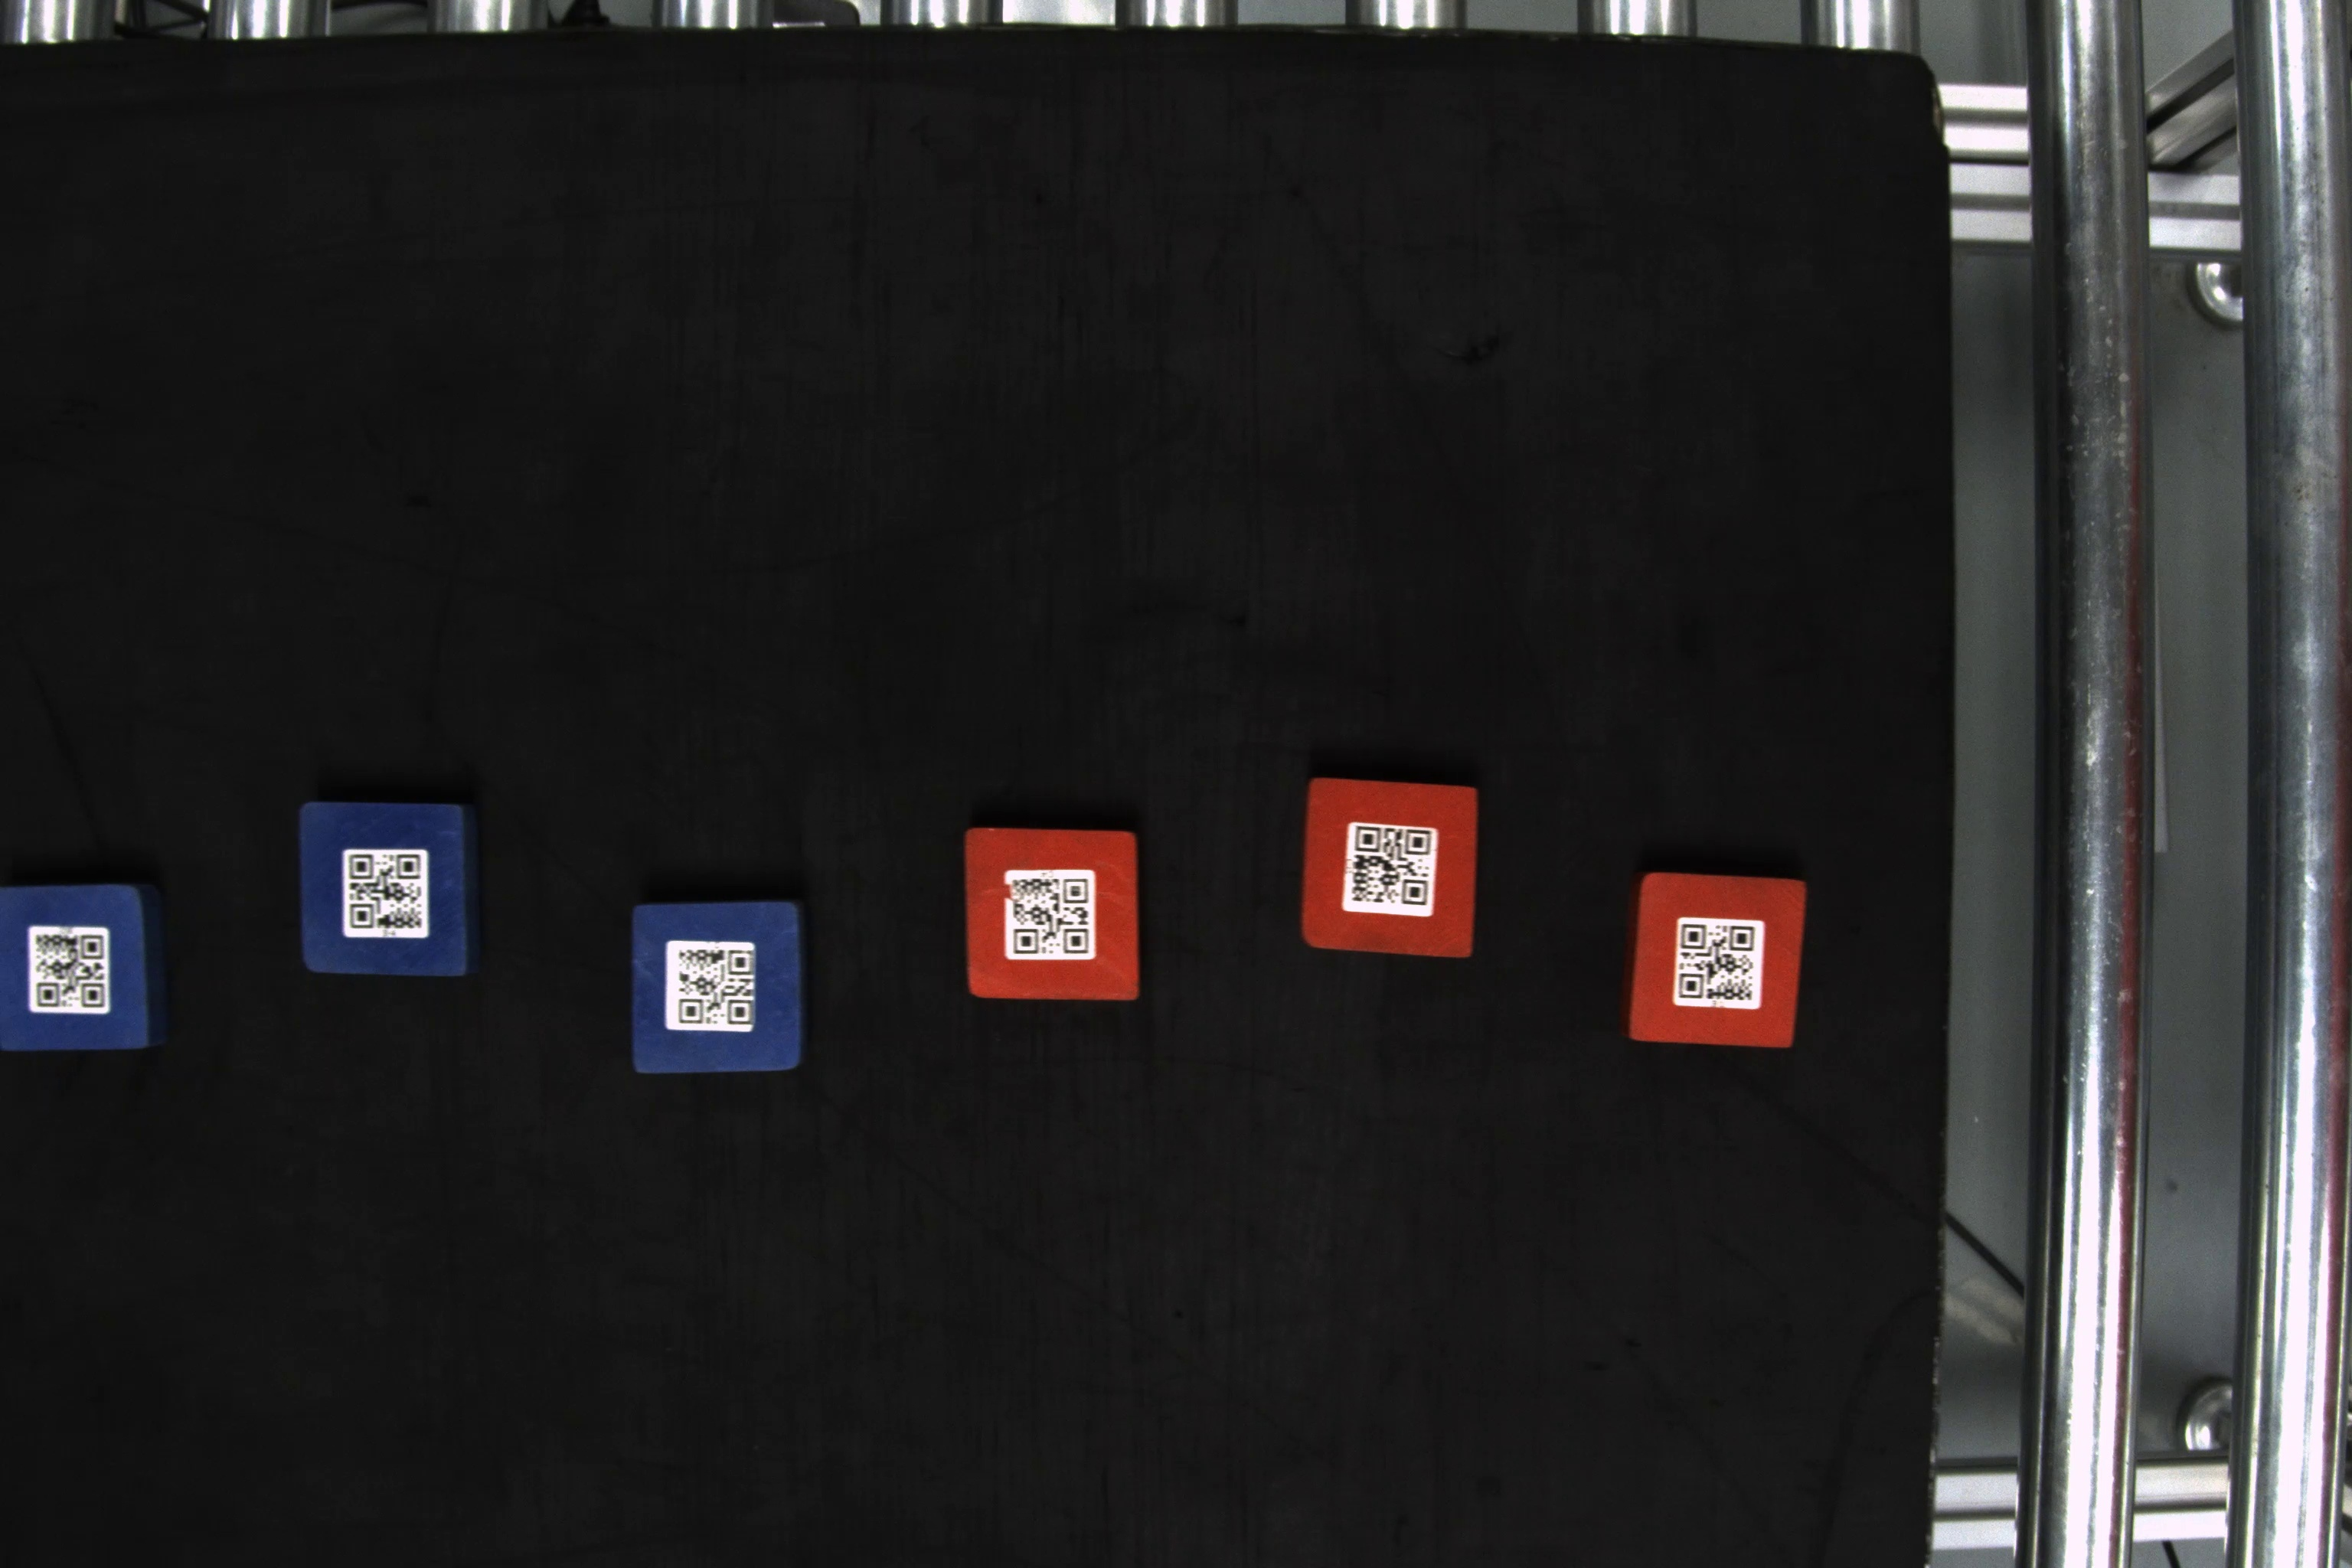wood: (1297, 768, 1484, 966), (294, 796, 485, 980), (1626, 864, 1811, 1050), (957, 826, 1146, 1008), (628, 899, 808, 1078), (3, 877, 163, 1055)
